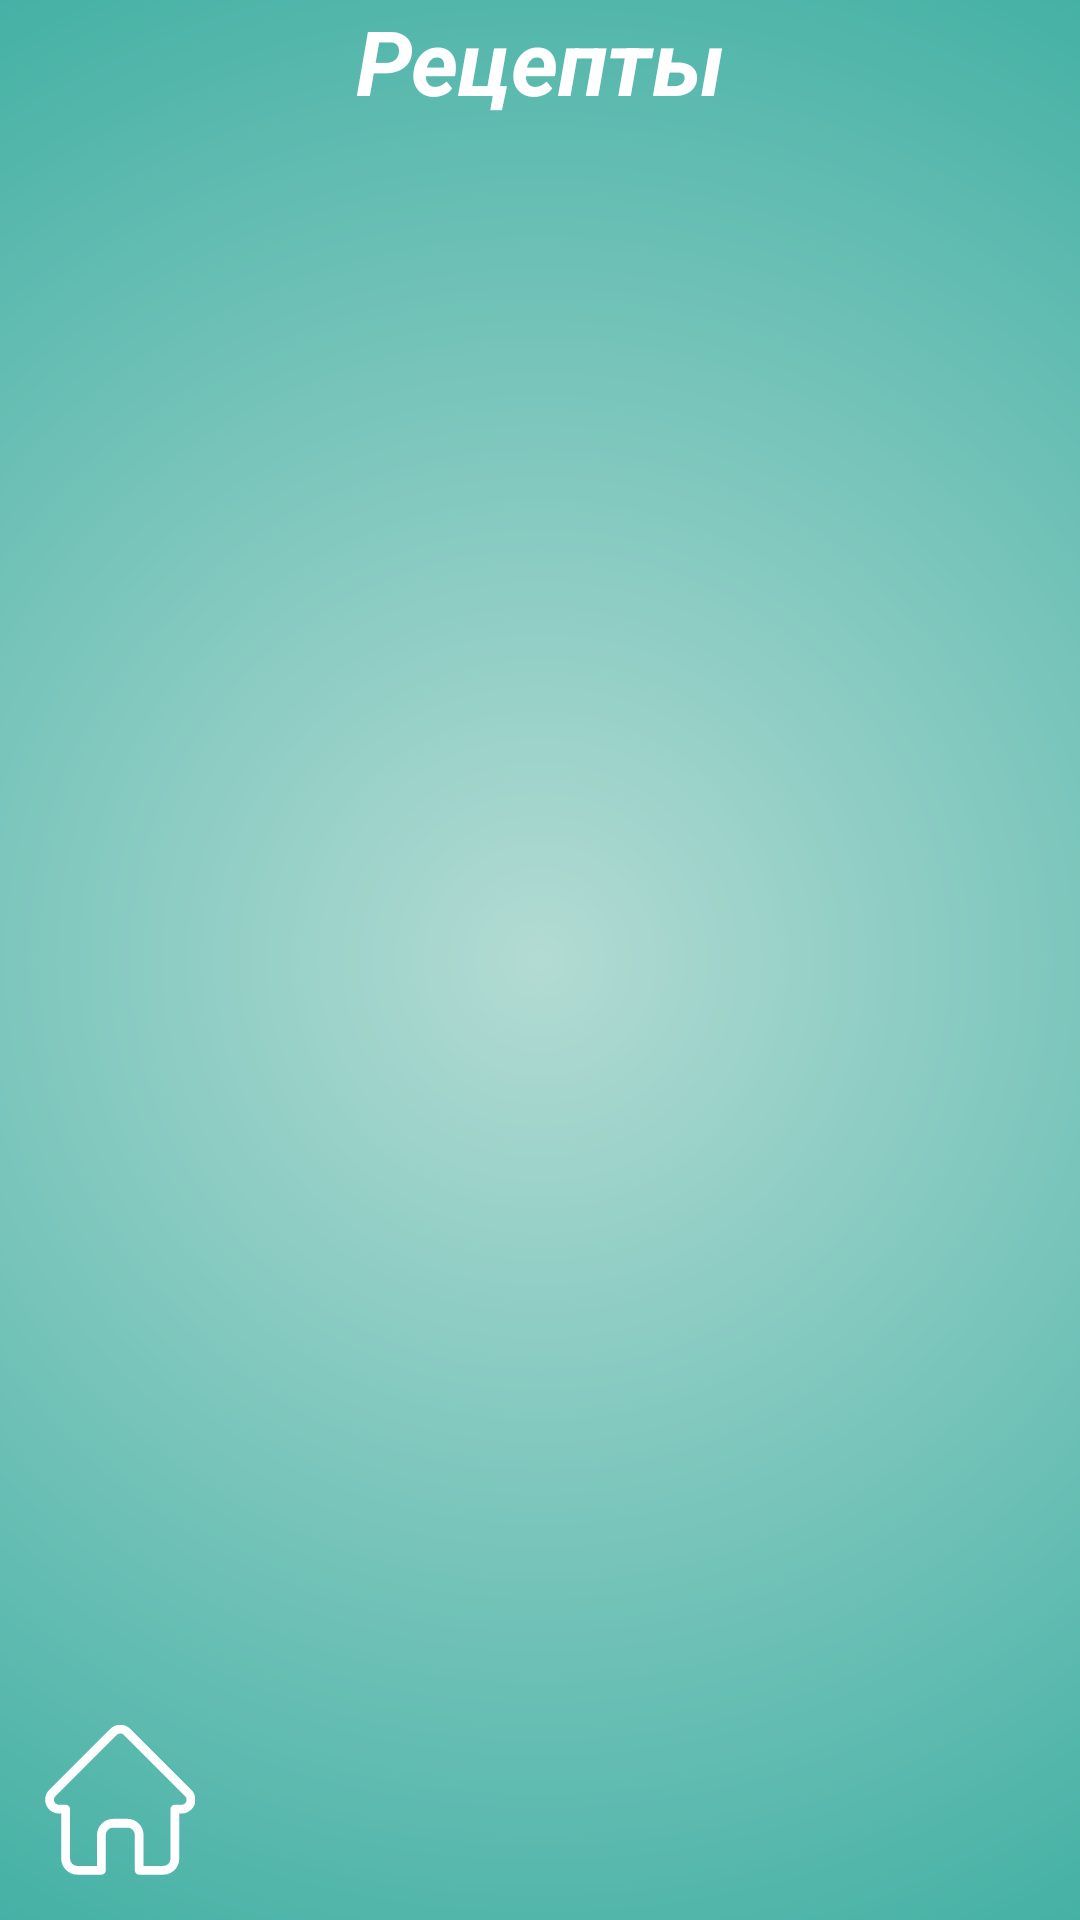

Named icons in this screenshot (1080 x 1920) and their bounding boxes, (x1, y1, x2, y2):
home: (45, 1725, 195, 1875)
